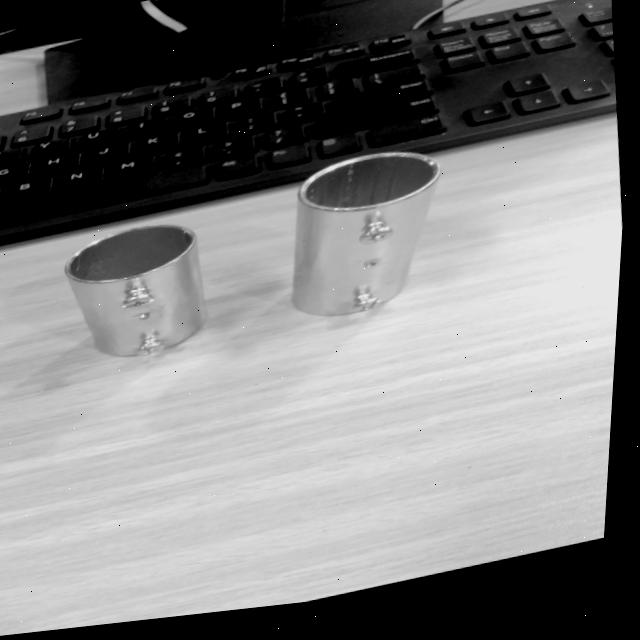Co_Lon: (289, 145, 441, 323)
Co_Nho: (58, 209, 226, 371)
